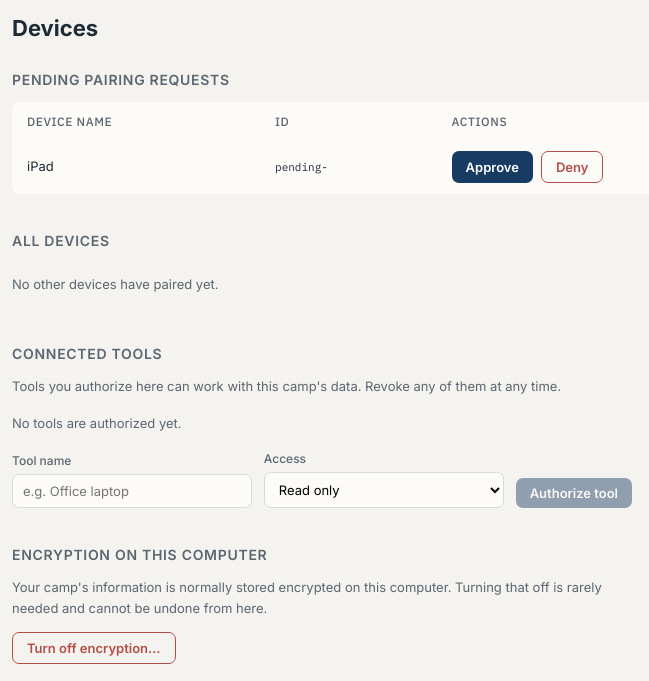
Test: DeviceManagerScreen — write controls gated by device mode › says plainly, inline, that a deny applies to this device only (T351)
This screenshot has width=649, height=681.
Step 1. Click the button "Deny" → (572, 167), box [541, 151, 603, 183]
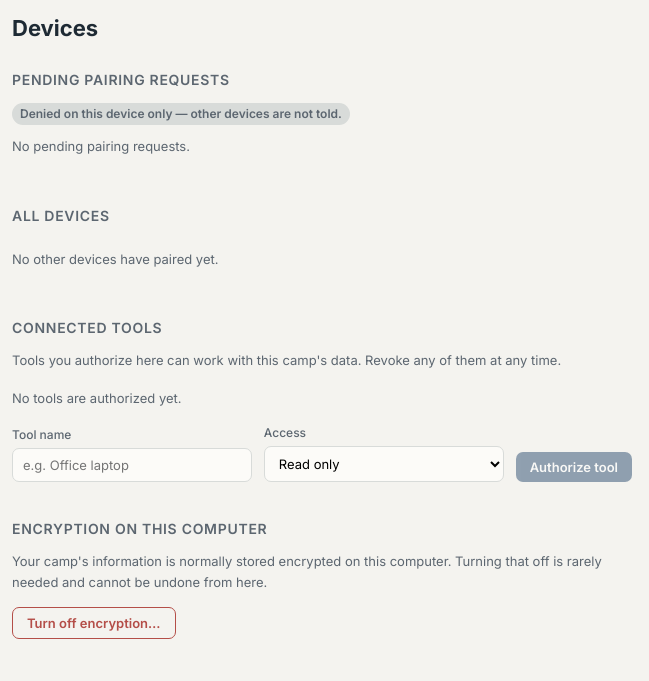
Check: the text "Denied on this device only — other devices are not told." is shown, box [12, 103, 350, 125]
